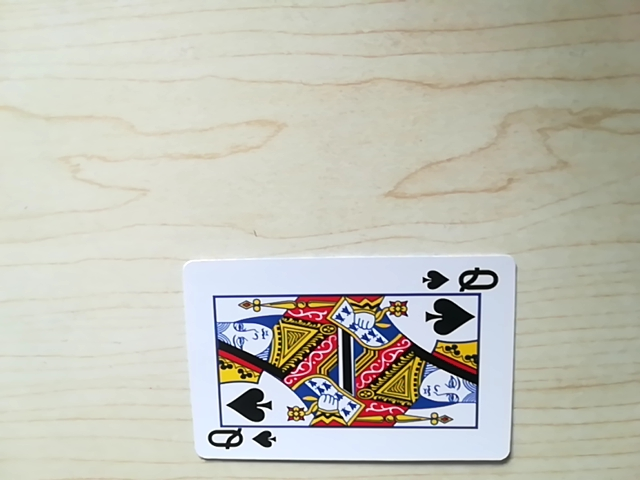ht q: (203, 424, 275, 458), (424, 262, 498, 295)
